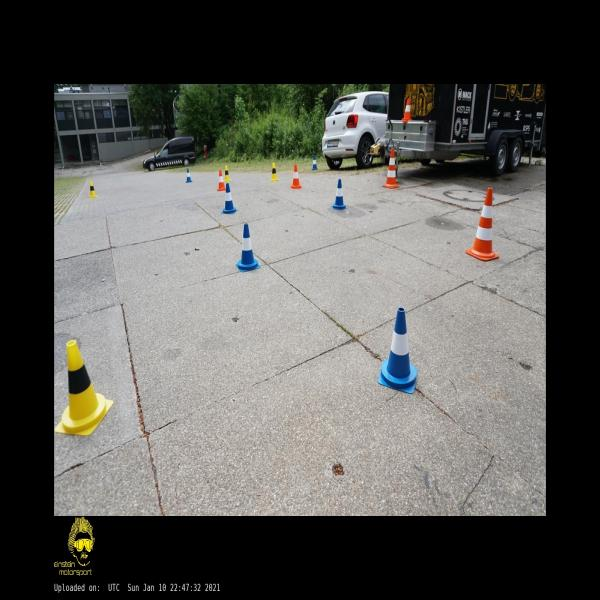blue_cone: (378, 307, 418, 395), (236, 224, 260, 272), (222, 184, 237, 214), (332, 179, 346, 209), (312, 155, 318, 170), (186, 168, 192, 182)
large_orange_cone: (466, 188, 499, 261), (382, 148, 399, 188)
orange_cone: (291, 164, 301, 188), (402, 98, 412, 120), (217, 170, 226, 191)
yellow_cone: (54, 340, 113, 436), (271, 162, 278, 180), (90, 182, 97, 198), (224, 166, 231, 182)
